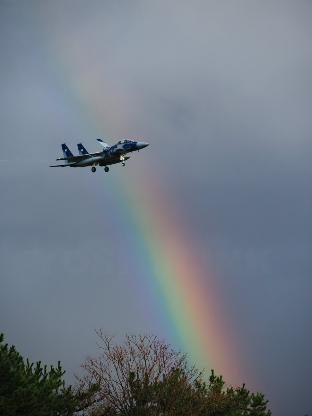F117: (49, 138, 149, 172)
